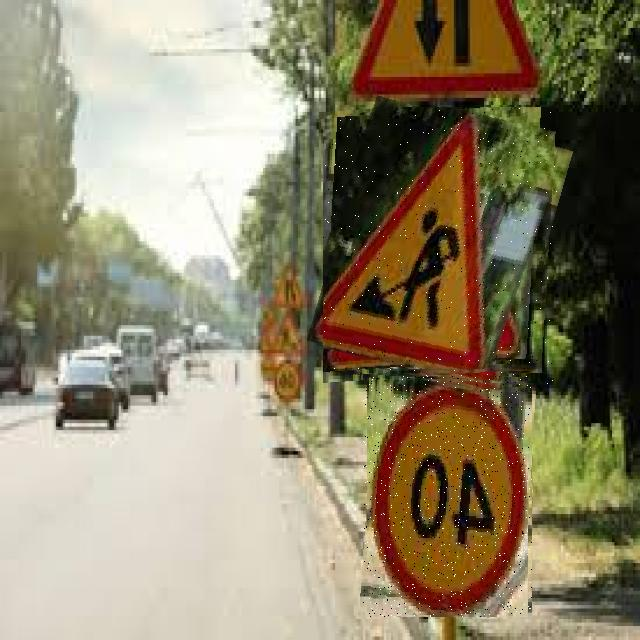roadwork: (323, 107, 558, 384)
speed limit 40: (363, 374, 532, 617)
